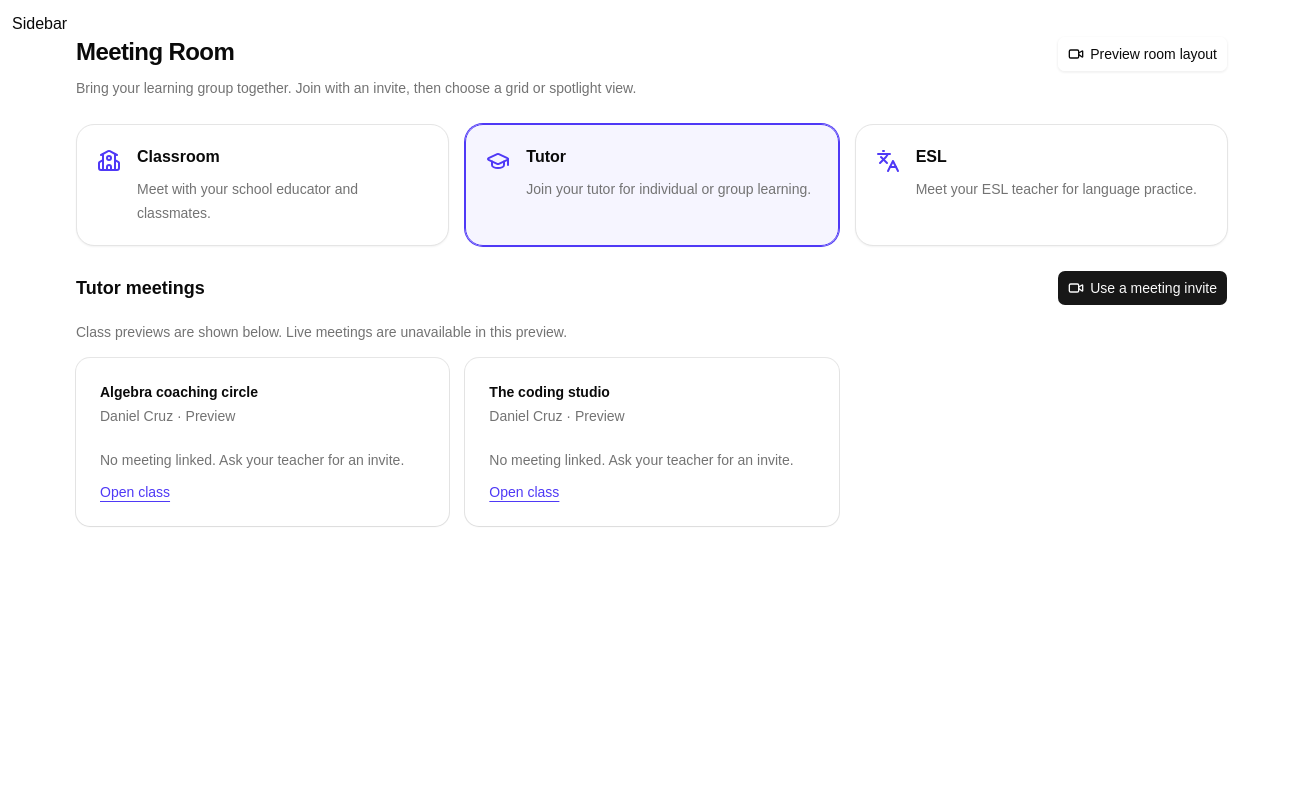
meeting room entry › opens invite entry inside the dashboard and returns to the category page
The image size is (1292, 812).
Click the link "Use a meeting invite" at (1143, 288), box [1057,270,1228,306]
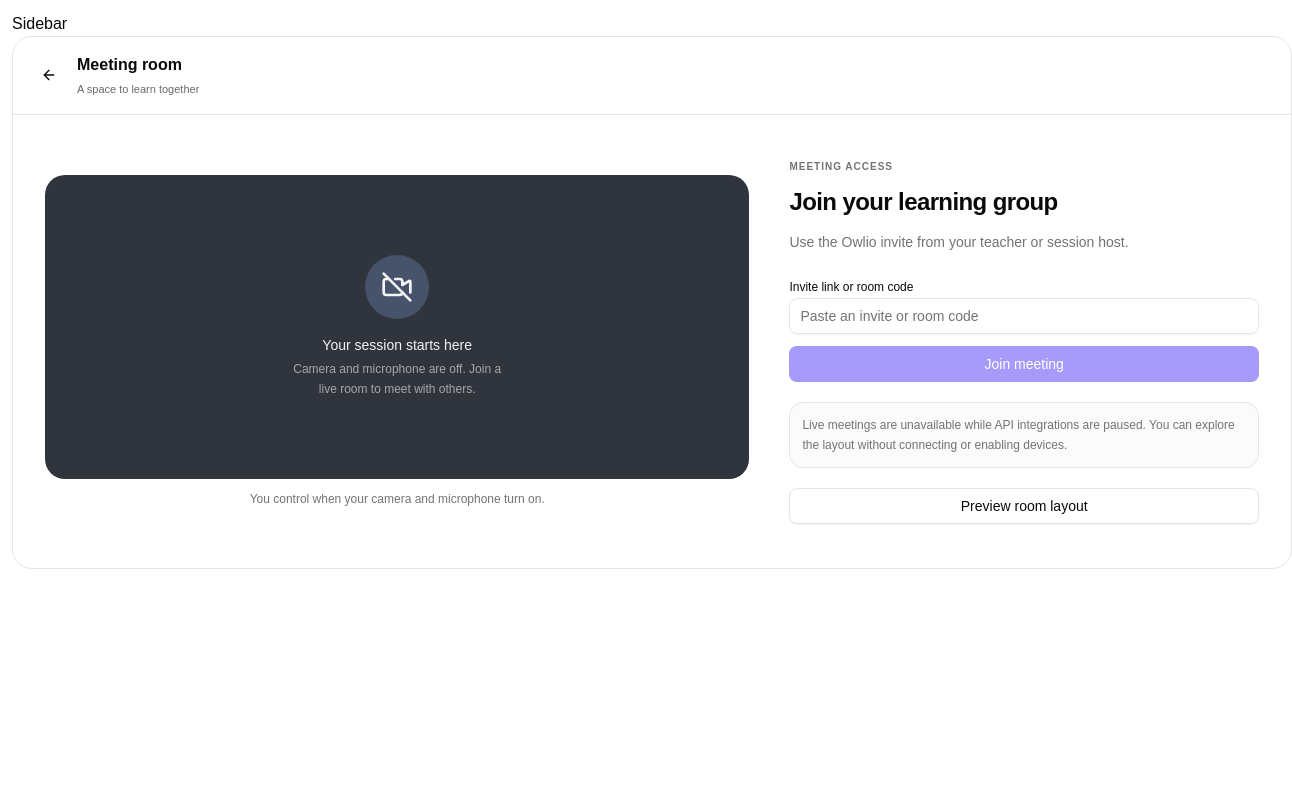
expect the navigation bar named "Workspace navigation" is shown: met, box [12,15,67,32]
expect the field labelled "Invite link or room code" is shown: met, box [789,298,1259,334]
Click the link named "Back to Meeting Room" at (49, 75), box [41,67,57,83]
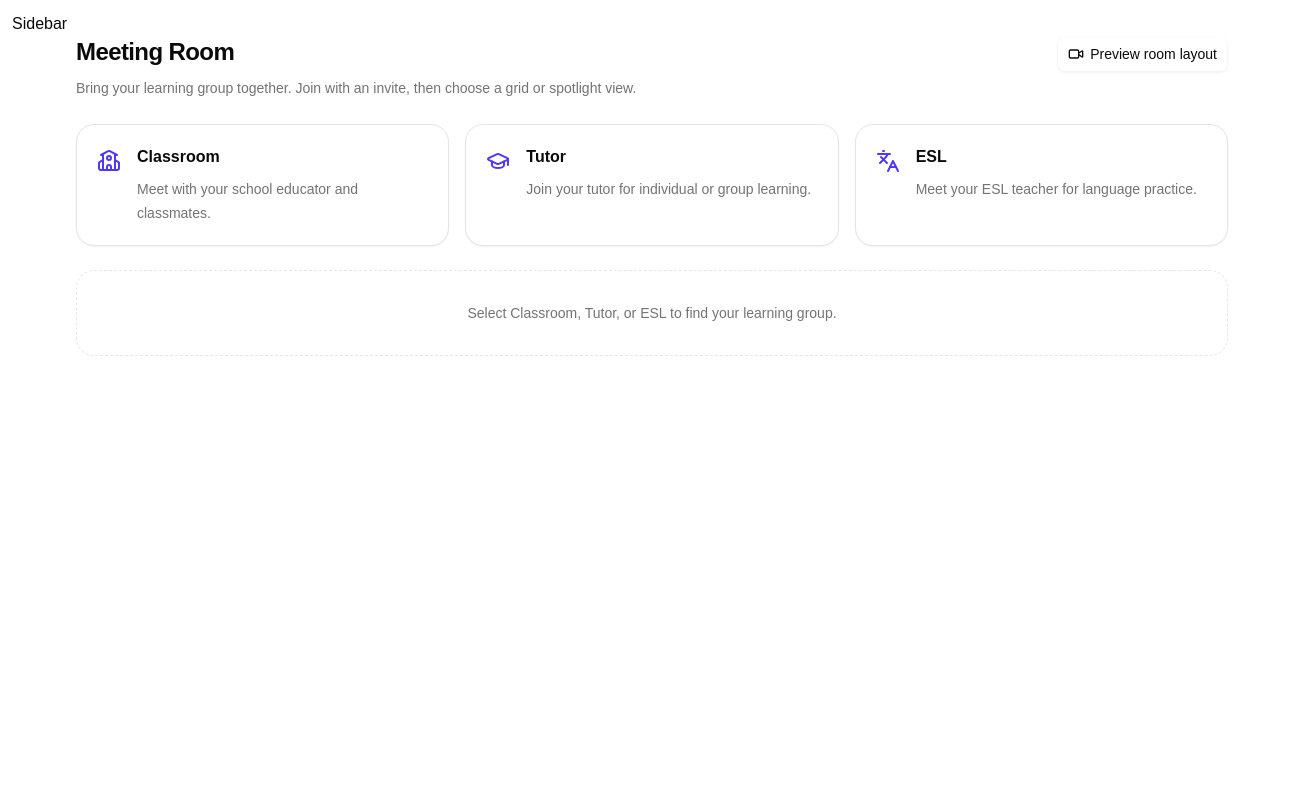
expect the element named "Meeting categories" is shown: met, box [76,124,1228,246]
